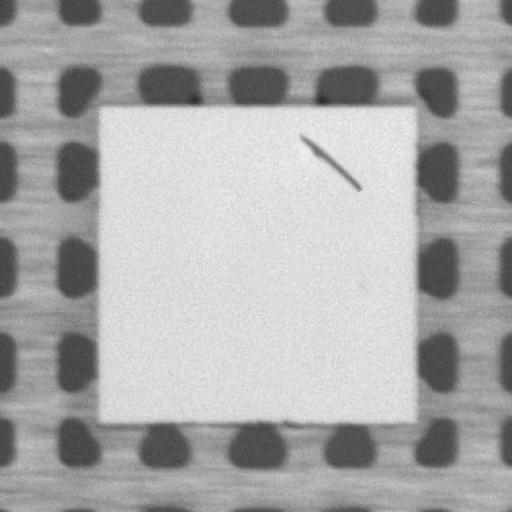DIE_INK: (289, 129, 365, 196)
